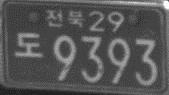2: (87, 9, 106, 33)
3: (79, 34, 104, 84), (134, 37, 158, 87)
9: (52, 34, 77, 83), (107, 37, 131, 84), (107, 9, 125, 34)
도: (14, 31, 43, 57)
전북_O: (43, 7, 86, 28)
